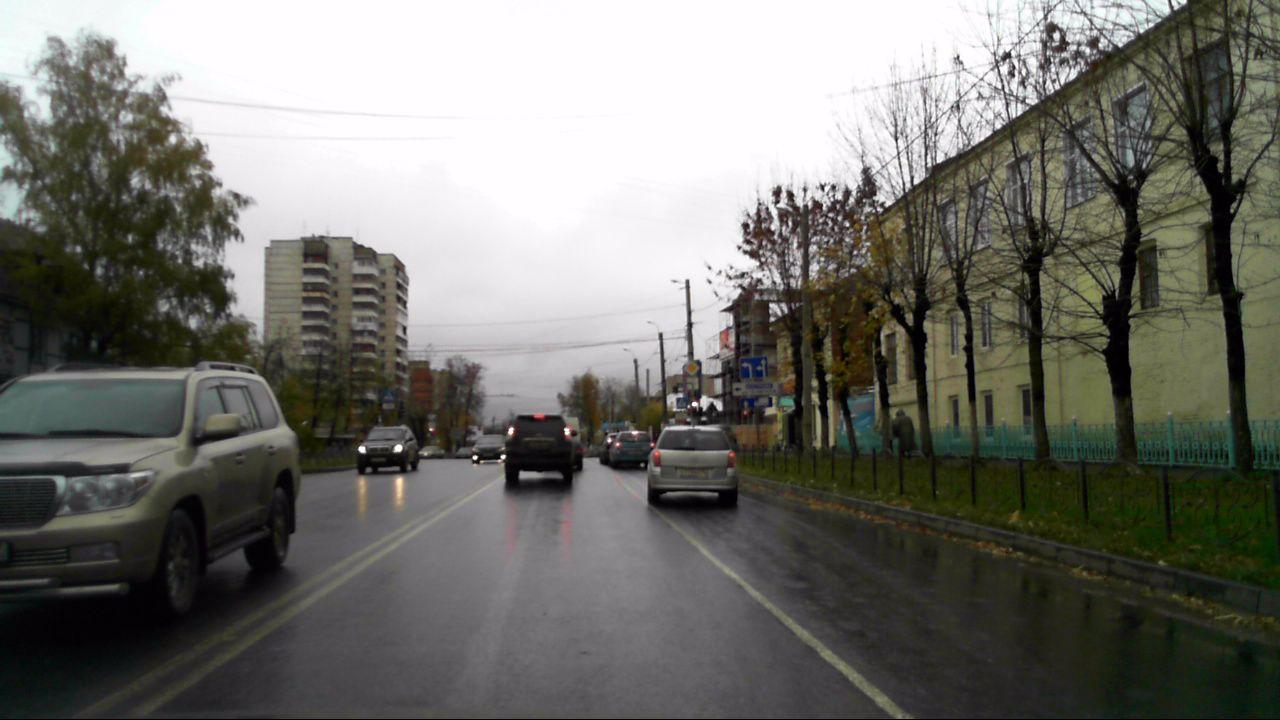2_1: (684, 360, 699, 375)
5_15_1: (739, 356, 768, 377)
5_19_1: (675, 397, 688, 409)
5_19_2: (382, 389, 395, 401)
6_10_1: (731, 382, 778, 396)
6_15_1: (741, 396, 772, 409)
8_13: (686, 376, 700, 390)
